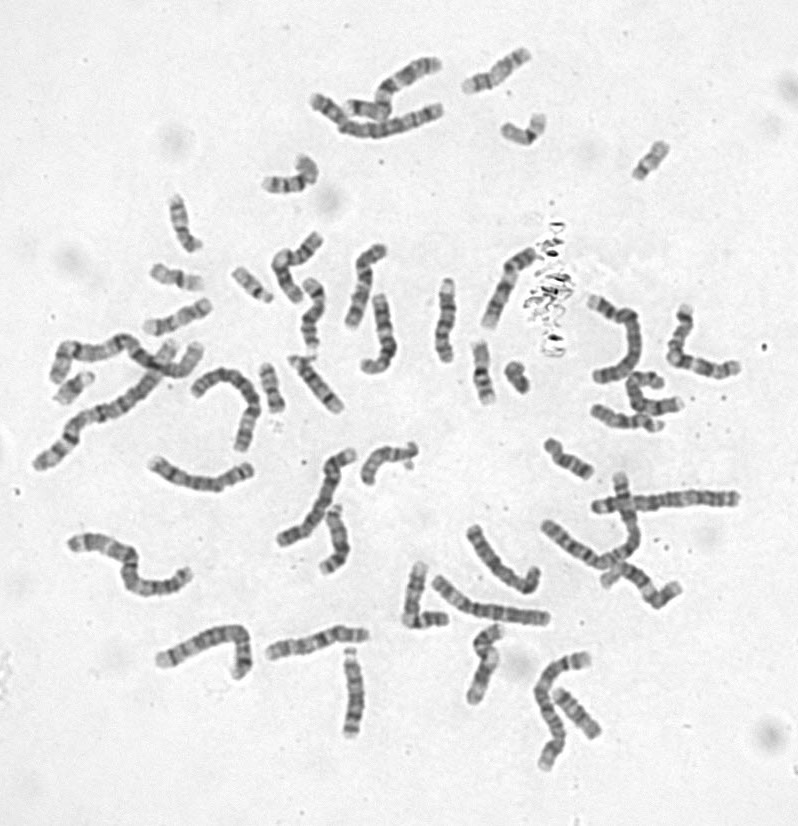chromosomes: (27, 335, 184, 477), (543, 469, 641, 570), (269, 445, 363, 549), (63, 533, 206, 601), (51, 331, 208, 391), (533, 642, 596, 774), (301, 93, 449, 143), (342, 52, 444, 122), (187, 364, 262, 459), (429, 574, 554, 630), (461, 514, 543, 597), (662, 299, 743, 382), (155, 622, 260, 681), (581, 293, 644, 386), (588, 485, 745, 521), (480, 245, 540, 332), (596, 562, 687, 618), (148, 452, 255, 495), (286, 351, 348, 425), (344, 242, 391, 339), (271, 229, 329, 307), (262, 624, 374, 664), (397, 560, 455, 637), (455, 45, 538, 97), (463, 619, 505, 710), (551, 680, 606, 747), (140, 296, 220, 340), (624, 369, 693, 419), (361, 290, 400, 375), (358, 436, 422, 487), (315, 496, 352, 579), (587, 405, 668, 442), (339, 641, 369, 740), (431, 274, 462, 369), (257, 152, 323, 196), (165, 190, 204, 257), (491, 108, 556, 148), (539, 440, 597, 483), (468, 336, 498, 414), (297, 274, 327, 350), (627, 136, 674, 183), (255, 356, 289, 420), (228, 262, 278, 305), (50, 367, 100, 408), (144, 264, 202, 296), (503, 358, 535, 399)
